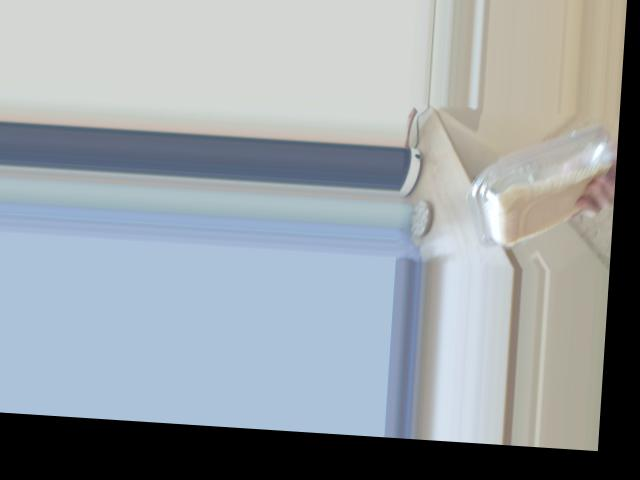cheese: (480, 139, 564, 234)
